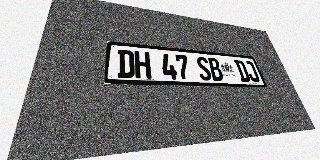4: (160, 53, 178, 80)
7: (174, 54, 192, 80)
B: (207, 57, 224, 81)
D: (117, 49, 135, 78), (234, 60, 251, 82)
H: (134, 51, 151, 79)
J: (243, 61, 261, 82)
S: (195, 56, 213, 81)
